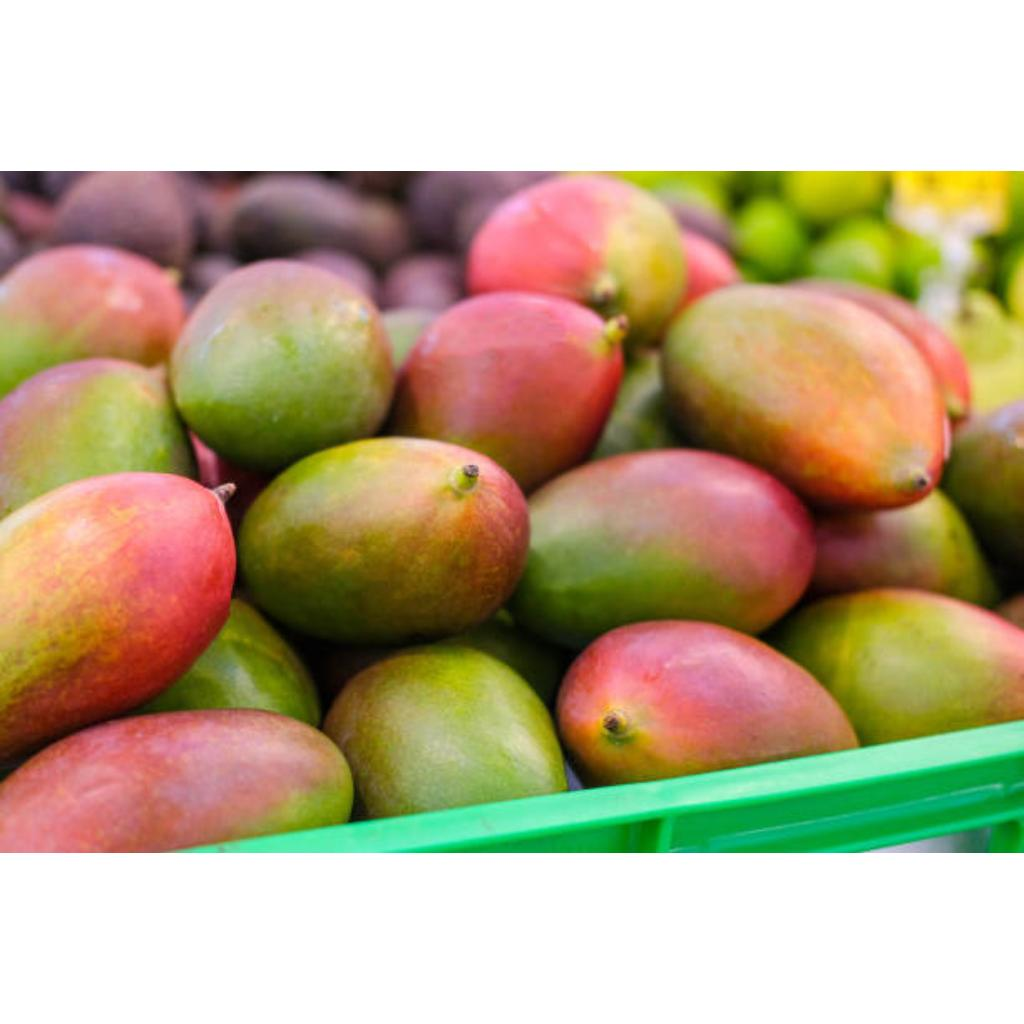mango: (0, 473, 236, 760), (664, 285, 950, 508), (510, 449, 816, 648), (238, 439, 530, 644), (0, 711, 352, 853), (556, 623, 858, 786), (170, 259, 394, 472), (390, 293, 626, 491), (324, 643, 565, 818), (770, 589, 1024, 745), (466, 177, 686, 344), (0, 359, 195, 518), (0, 245, 186, 396), (812, 491, 998, 606)
